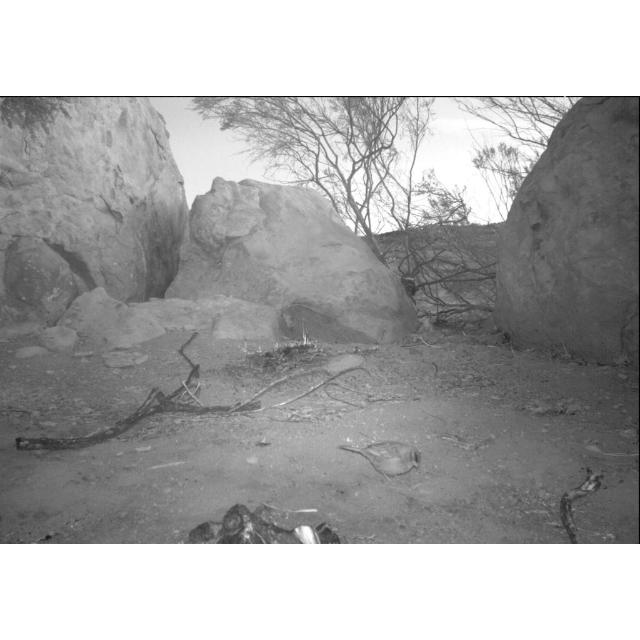animals: (338, 440, 422, 484)
